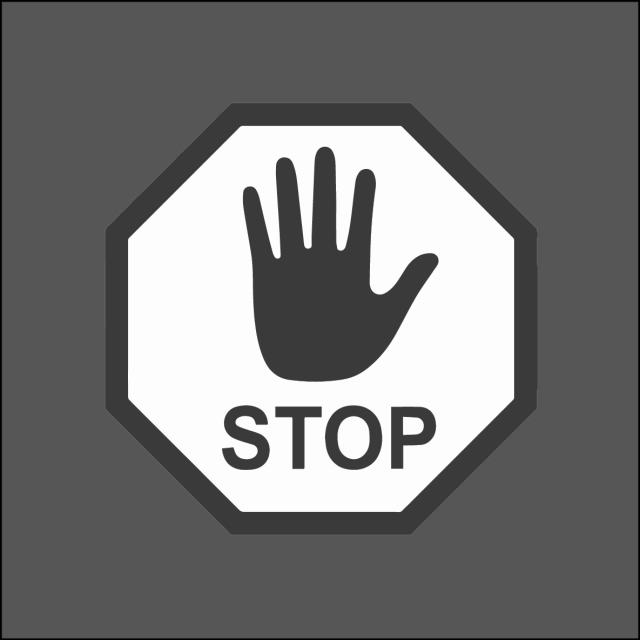Stop-sign: (88, 79, 566, 557)
